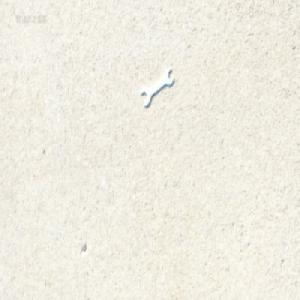Wrench: (141, 68, 174, 107)
